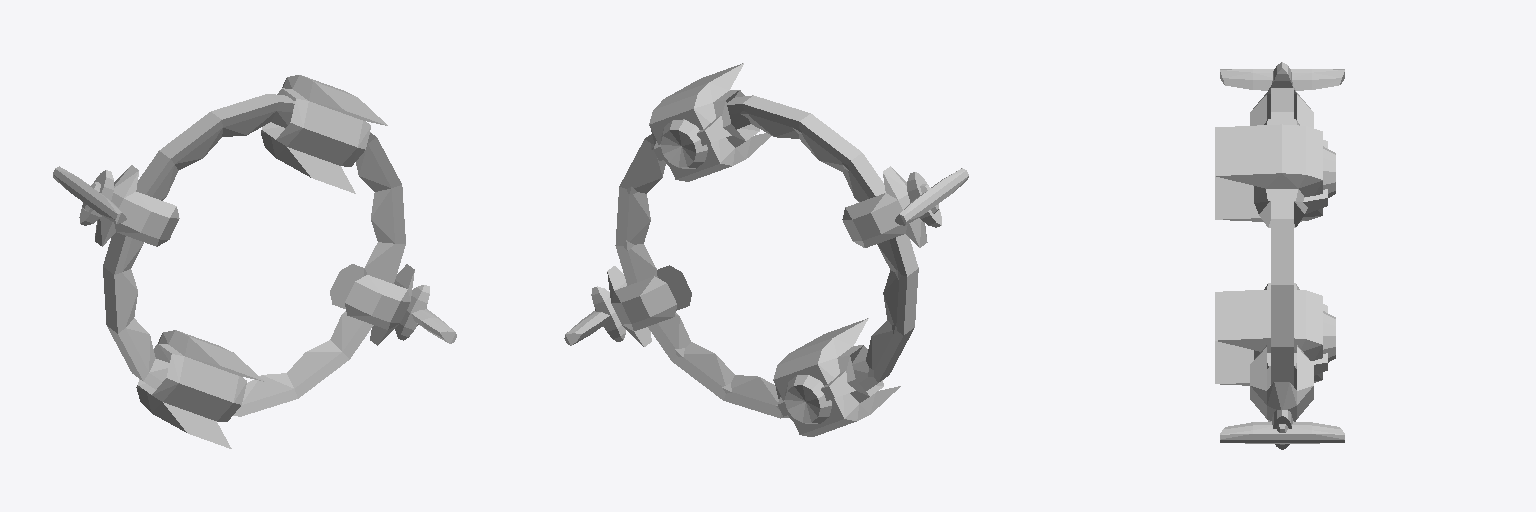
Rendered from stg300_MotGate_c2_03.obj.
3 renders of one model, left to right at view 1: azimuth 30°, elevation 25°; view 2: azimuth 150°, elevation 25°; view 3: azimuth 270°, elevation 25°, orthographic.
Visible parts, largest first — view 1: polygon0, polygon6, polygon7, polygon4, polygon3, polygon1, polygon2; view 2: polygon0, polygon6, polygon7, polygon1, polygon4, polygon3, polygon2; view 3: polygon0, polygon6, polygon5, polygon2, polygon3.
Part boxes in pixels (x1,y1,x2,y2): polygon0: (95, 75, 414, 448); polygon6: (103, 94, 405, 416); polygon7: (122, 111, 394, 404); polygon4: (53, 166, 126, 225); polygon3: (400, 296, 454, 342); polygon1: (141, 212, 400, 321); polygon2: (395, 285, 456, 343); polygon0: (607, 63, 927, 436); polygon6: (615, 95, 918, 418); polygon7: (627, 113, 898, 405); polygon1: (622, 130, 880, 422); polygon4: (895, 168, 968, 227); polygon3: (566, 297, 621, 344); polygon2: (564, 286, 625, 345); polygon0: (1215, 81, 1335, 421); polygon6: (1271, 88, 1293, 385); polygon5: (1220, 69, 1344, 90); polygon2: (1220, 410, 1344, 449); polygon3: (1220, 414, 1344, 444).
Size of the model in its own units: 216 by 188 by 69.79.